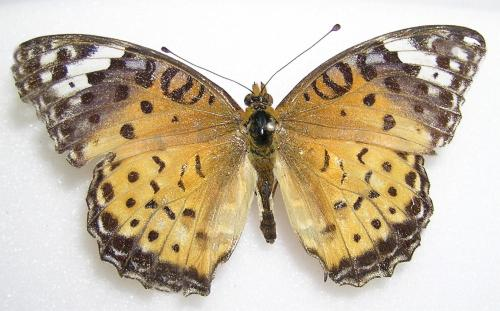Argyreus hyperbius: (5, 18, 486, 298)
butterfly: (7, 20, 488, 300)
